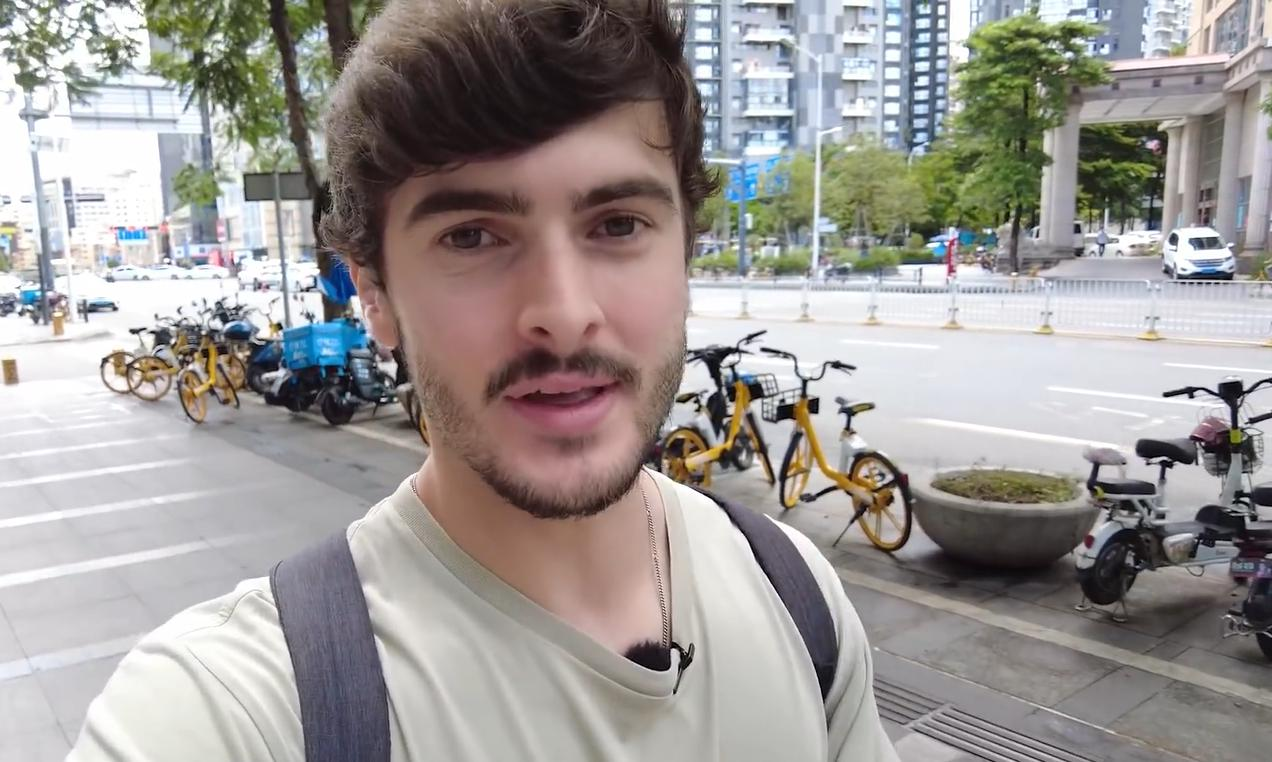without_mask: (426, 162, 657, 440)
